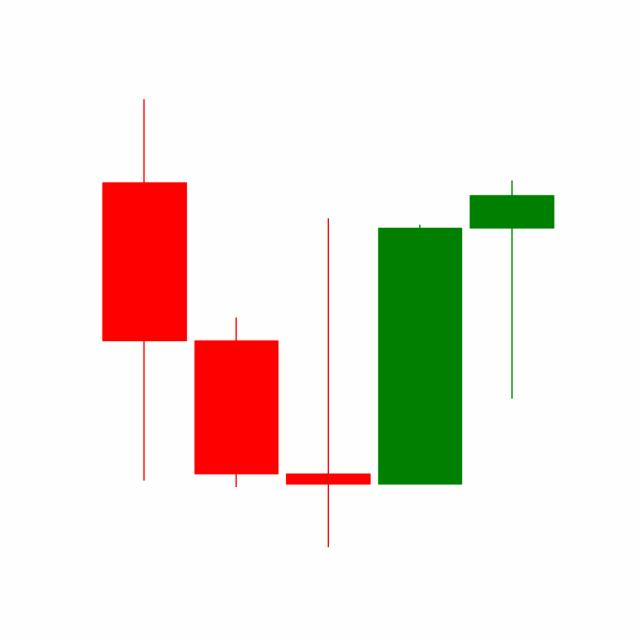Hanging Man: (464, 178, 558, 402)
